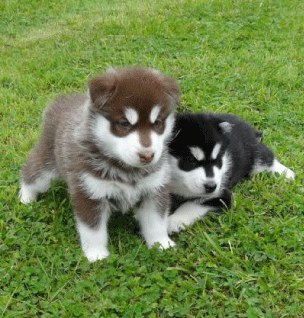husky: (41, 64, 177, 249), (164, 110, 288, 220)
